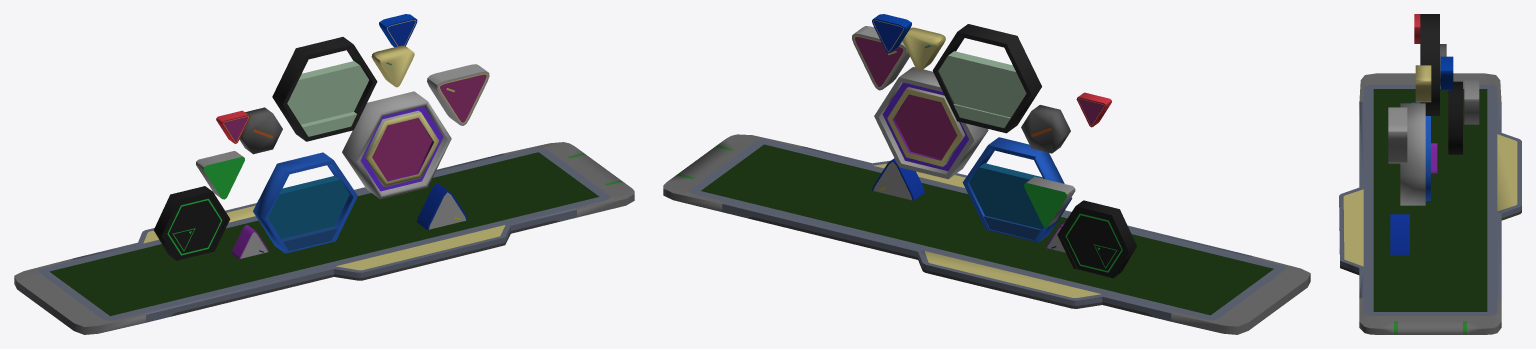
File: W_O_Landmark_002_L3.fbx
3 renders of one model, left to right at view 1: azimuth 30°, elevation 25°; view 2: azimuth 150°, elevation 25°; view 3: azimuth 270°, elevation 25°, orthographic. The views are drawn at different scales.
Visible parts, largest first — view 1: W_O_Landmark_002_L3; view 2: W_O_Landmark_002_L3; view 3: W_O_Landmark_002_L3.
Boxes of the visible parts, x1,y1,x2,y2 form: W_O_Landmark_002_L3: (14,14,634,334); W_O_Landmark_002_L3: (663,14,1310,334); W_O_Landmark_002_L3: (1339,14,1521,334).
Size of the model in its own units: 11.42 by 3.84 by 3.47.
